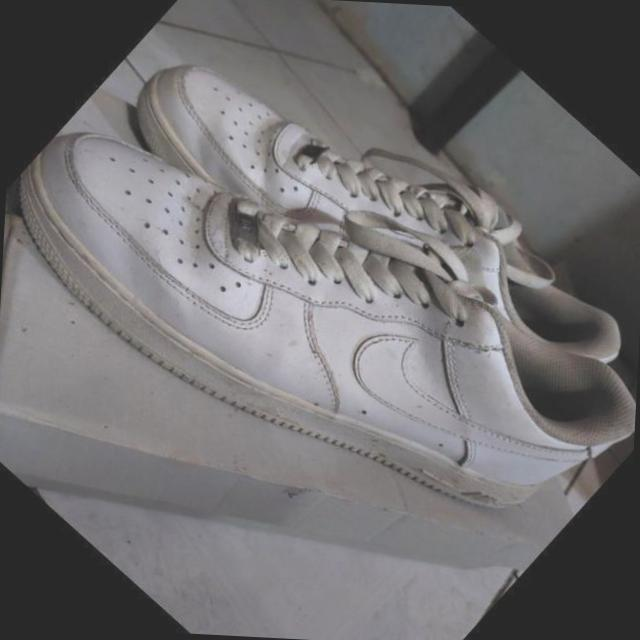nike_original_airforce: (0, 0, 640, 640), (95, 0, 640, 478)
